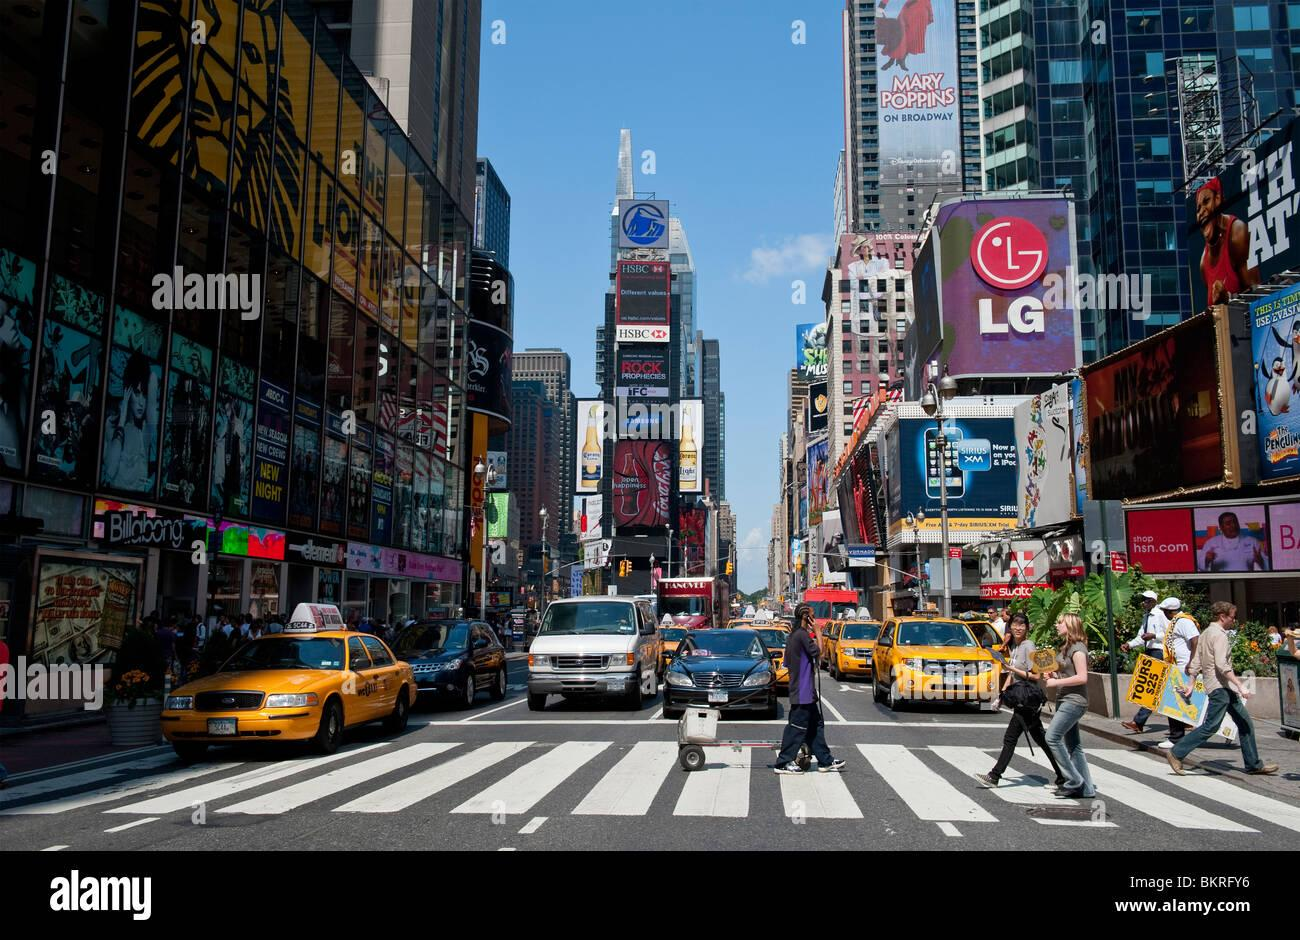crosswalk: (7, 708, 1300, 854)
